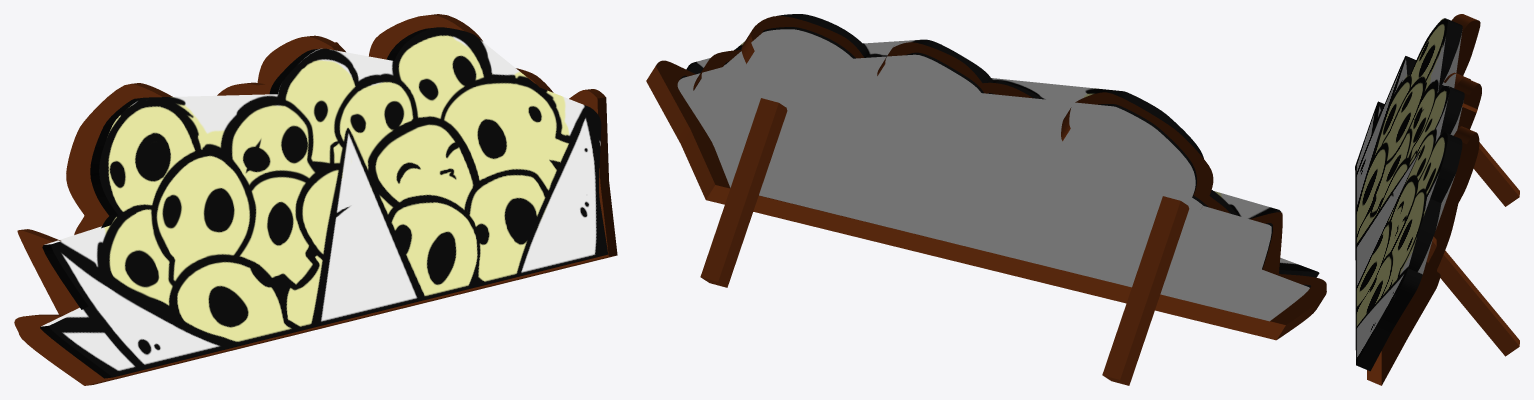
File: MuroDragon.FBX
3 views of the same model, side by side, from view 1: azimuth 30°, elevation 25°; view 2: azimuth 150°, elevation 25°; view 3: azimuth 270°, elevation 25° (orthographic). The views are drawn at different scales.
Visible parts, largest first — view 1: Line002, Line001; view 2: Line002, Line001, cartoon001, cartoon002; view 3: Line002, Line001, cartoon002, cartoon001.
Boxes of the visible parts, x1,y1,x2,y2 form: Line002: (40, 27, 608, 378); Line001: (14, 14, 617, 385); Line002: (677, 14, 1319, 321); Line001: (646, 16, 1326, 340); cartoon001: (1102, 196, 1189, 385); cartoon002: (700, 98, 787, 287); Line002: (1355, 18, 1464, 371); Line001: (1367, 14, 1481, 385); cartoon002: (1426, 236, 1519, 356); cartoon001: (1473, 142, 1519, 206).
Bounding box in the file's own units: 160 × 62.5 × 45.83.
Materials: 2 (1 with a texture image).
